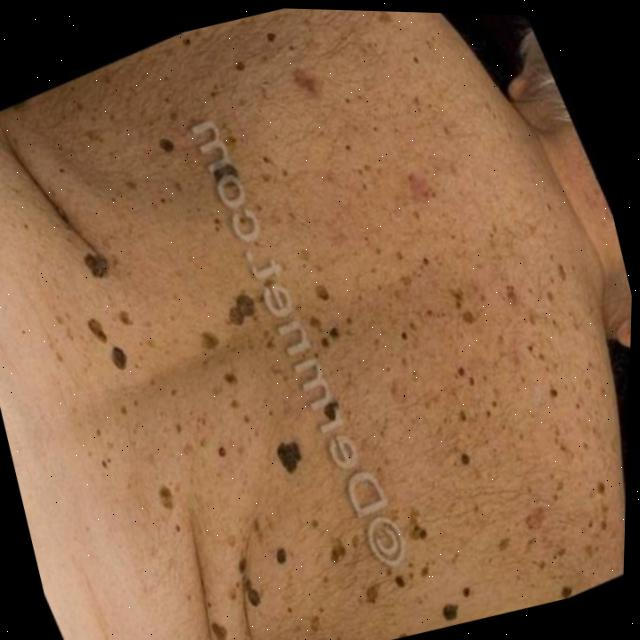Eczema: (5, 1, 640, 640)
